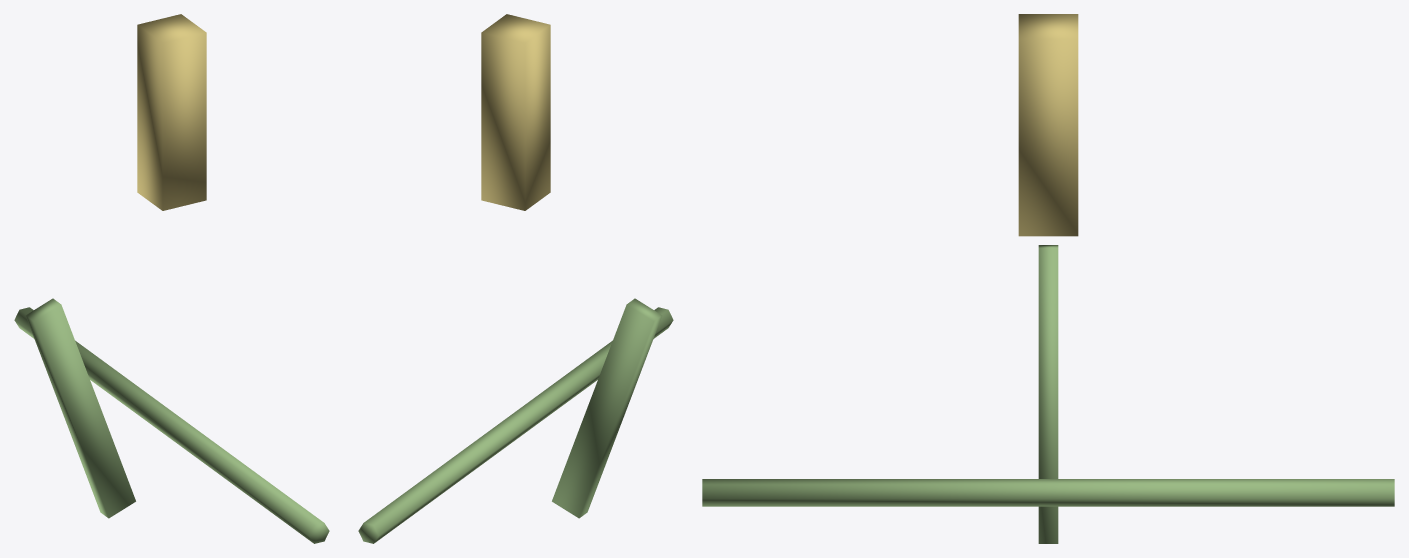
File: plant_wheat_mature.glb
The picture shows the model from 3 angles, left to right: view 1: azimuth 30°, elevation 25°; view 2: azimuth 150°, elevation 25°; view 3: azimuth 270°, elevation 25°; orthographic projection. The views are drawn at different scales.
Visible parts, largest first — view 1: head, leaf, stem; view 2: head, leaf, stem; view 3: stem, head, leaf.
Part boxes in pixels (<box>): head: <box>137,14,206,210</box>; leaf: <box>25,298,135,518</box>; stem: <box>14,307,329,543</box>; head: <box>481,14,550,210</box>; leaf: <box>552,298,662,518</box>; stem: <box>358,307,673,543</box>; stem: <box>702,479,1394,506</box>; head: <box>1018,14,1078,236</box>; leaf: <box>1038,245,1058,543</box>.
Size of the model in its own units: 0.225 by 0.6163 by 0.7.
